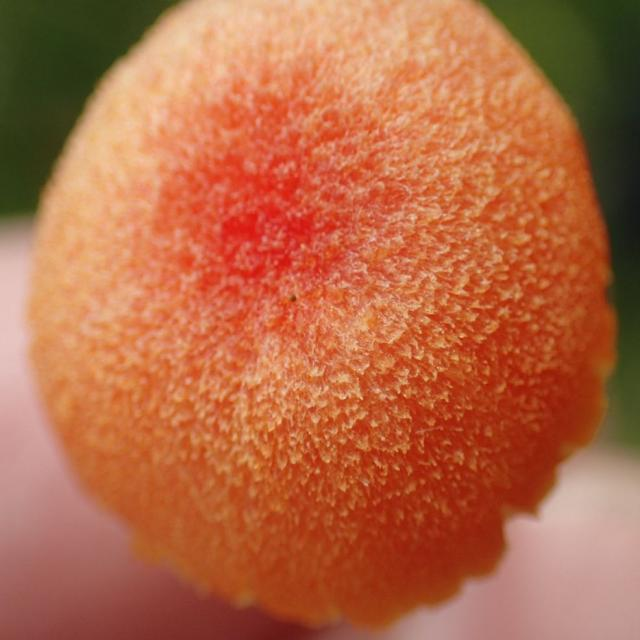Cantharellus cibarius: (33, 0, 616, 631)
